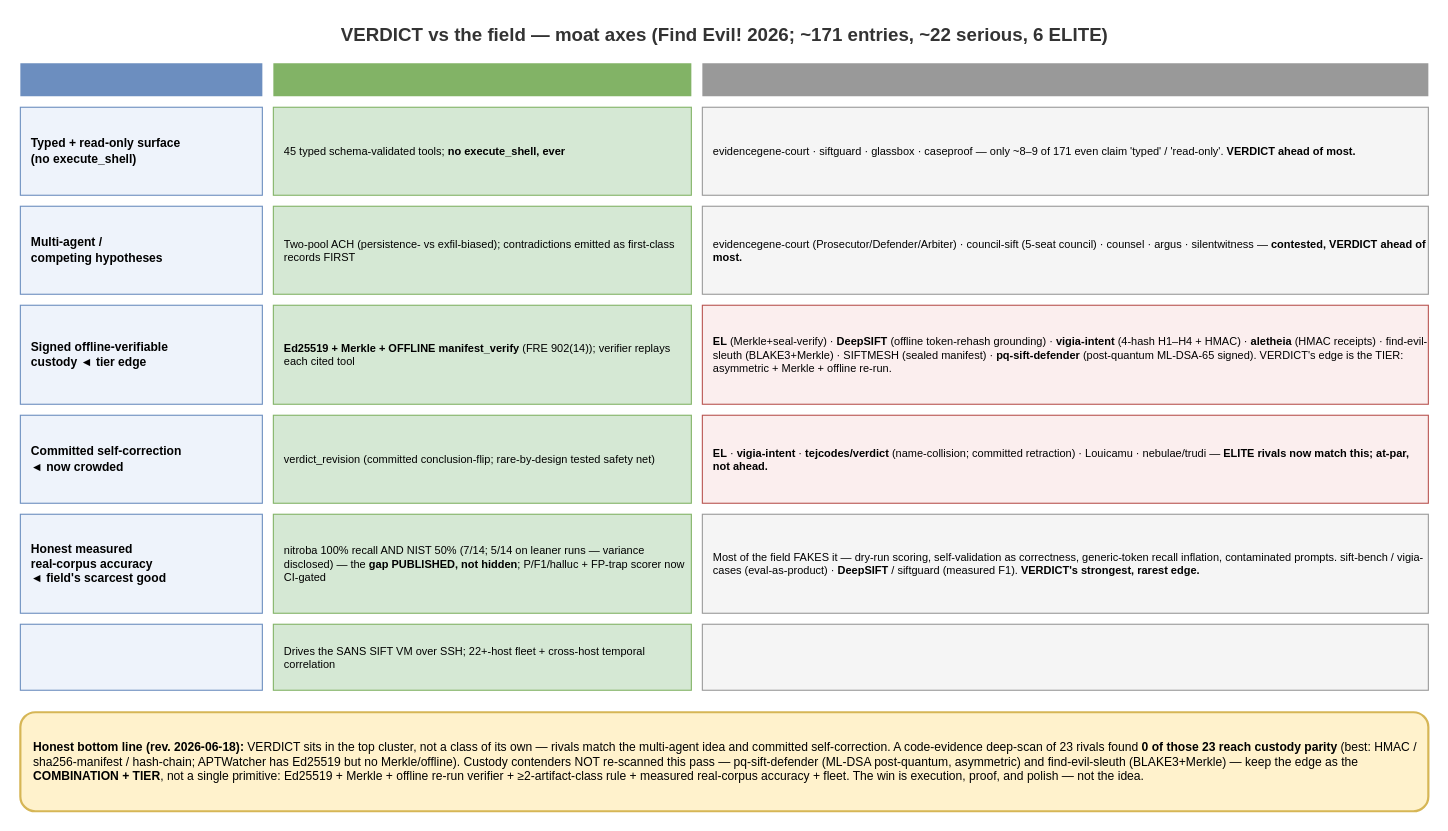
The diagram is 1448 pixels wide and 831 high, and some of its shapes have lost their labels. The shapes that lost their labels are listed below. From the top down, each one's centre as x and y in pixels, then its label:
At pixel 141 79: "Moat axis".
At pixel 482 79: "VERDICT's position".
At pixel 1065 79: "Field — who contests it (ELITE in bold)".
At pixel 140 656: "Fleet / multi-host scale".
At pixel 1064 656: "Rarely claimed in the field. VERDICT likely ahead.".
